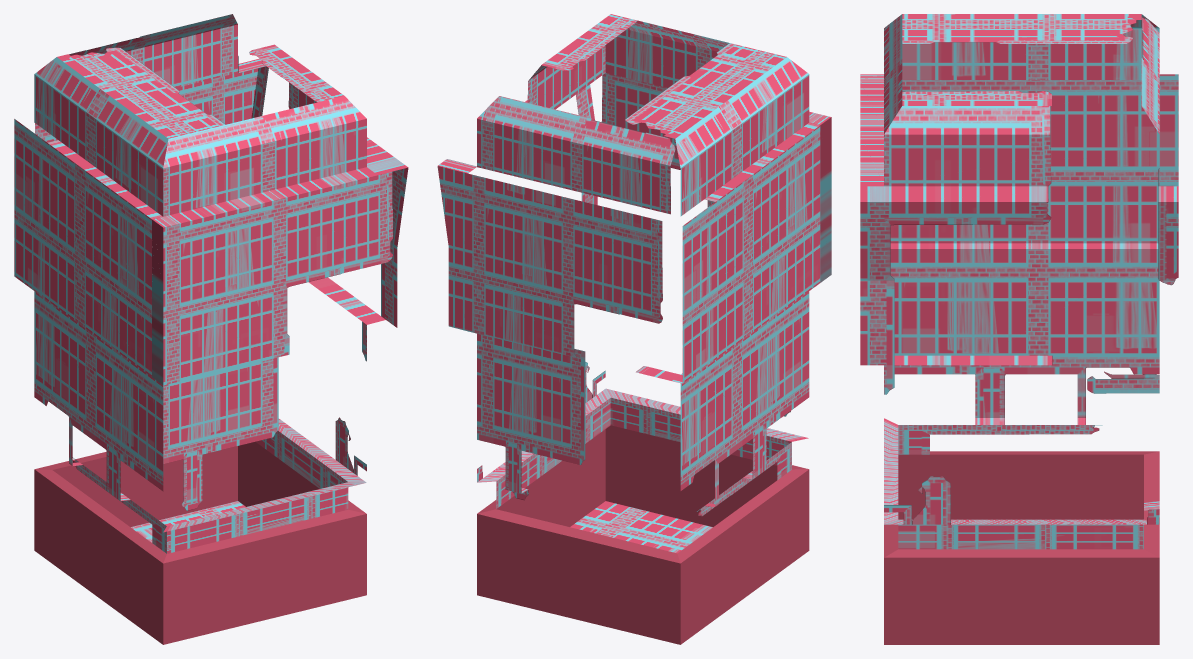
Rendered from Boxy  Building.fbx.
3 views of the same model, side by side, from view 1: azimuth 30°, elevation 25°; view 2: azimuth 150°, elevation 25°; view 3: azimuth 270°, elevation 25° (orthographic). The views are drawn at different scales.
Parts seen in each view (by area): view 1: Shaped Building; view 2: Shaped Building; view 3: Shaped Building.
Boxes of the visible parts, x1=… form: Shaped Building: x1=14, y1=14, x2=408, y2=644; Shaped Building: x1=437, y1=14, x2=831, y2=644; Shaped Building: x1=860, y1=14, x2=1178, y2=644.
Bounding box in the file's own units: 3380 × 6540 × 3552.
